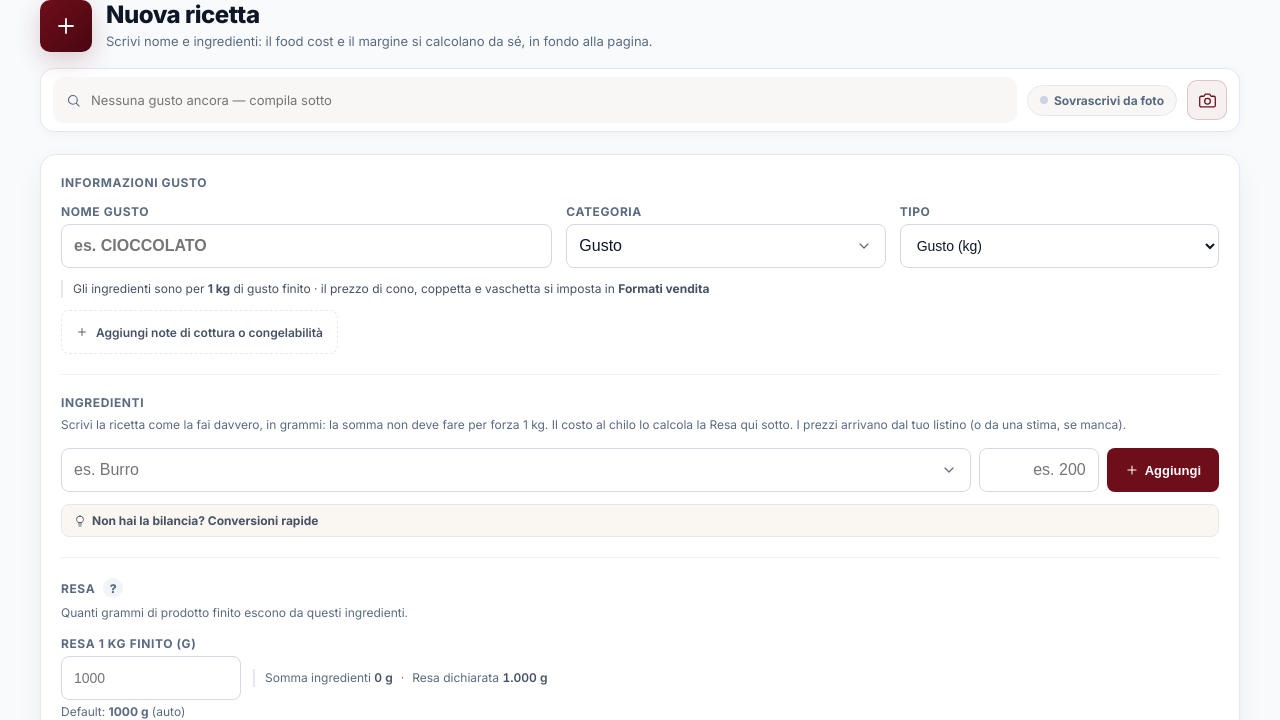
Test: Nuova Ricetta - food cost al kg dei gusti › senza resa scritta, la card Resa dichiara il peso che il motore usa davvero
Type "pistacchio" into the dropdown named "nome ingrediente da aggiungere" at [516, 470], box [61,448,971,492]
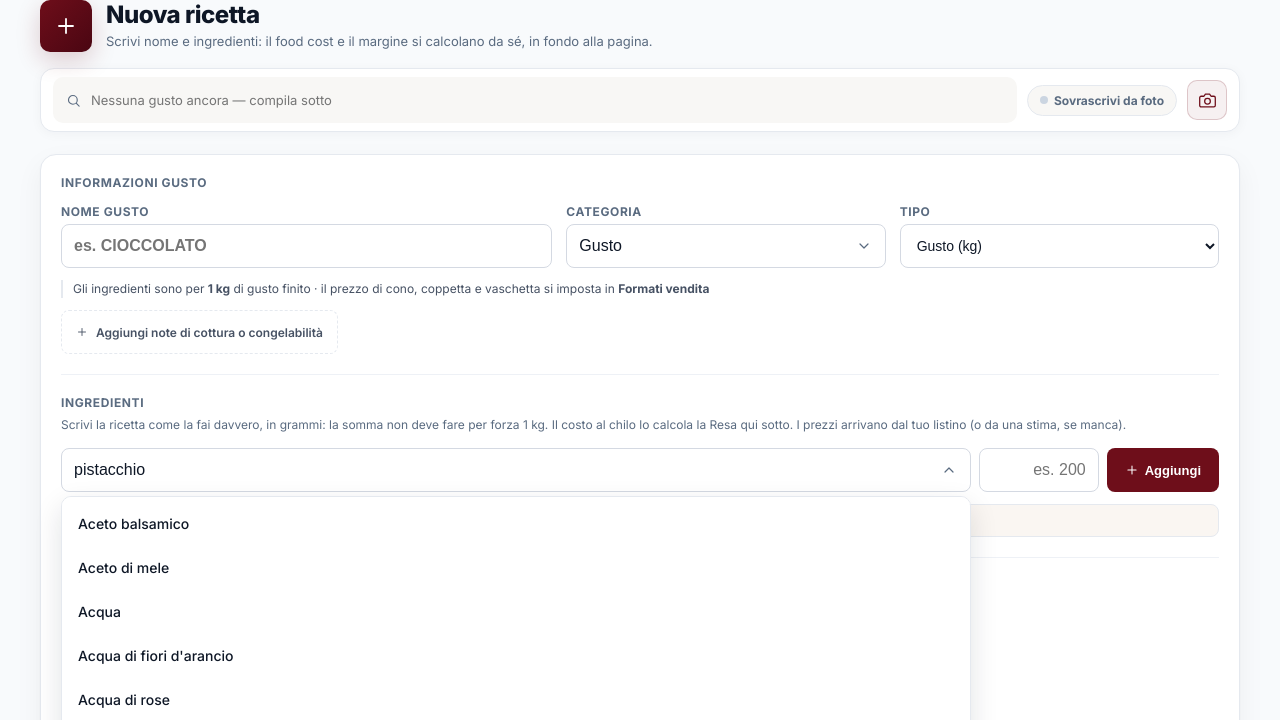
Type "500" into the field named "grammi di ingrediente da aggiungere" at [1039, 470], box [979,448,1099,492]
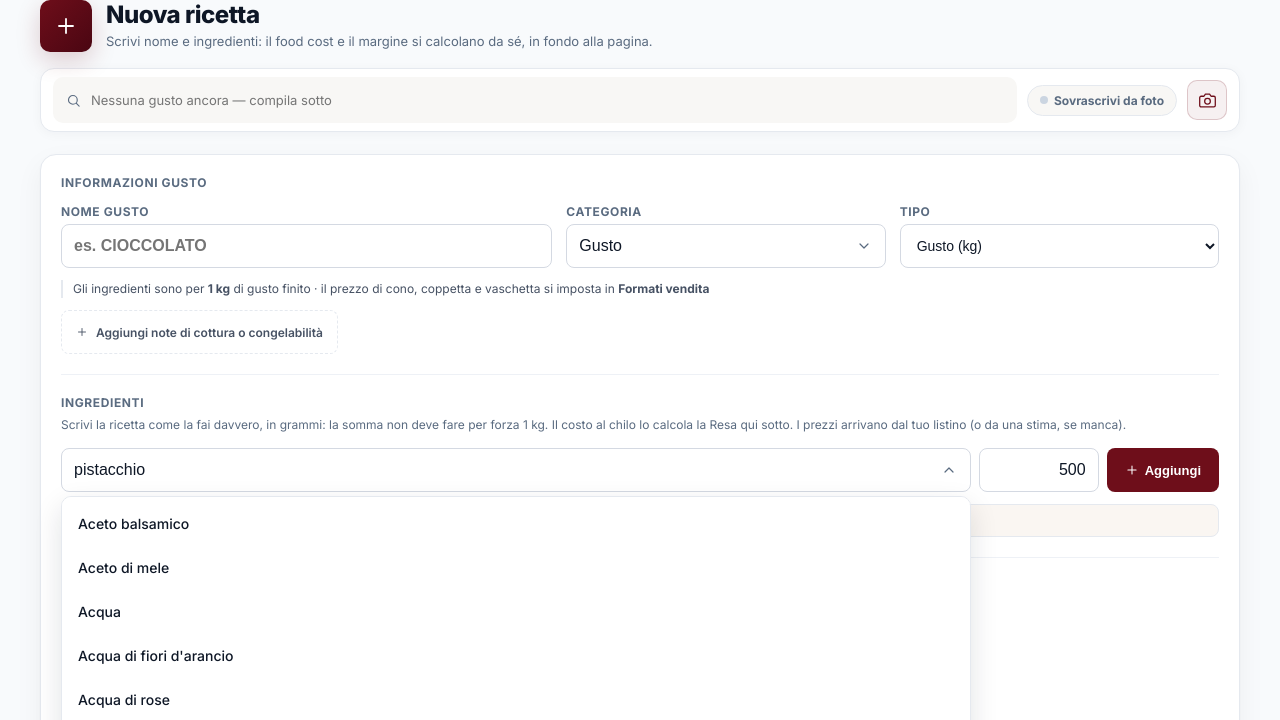
Click the button with aria-label "Aggiungi ingrediente alla ricetta" at [1163, 470], box [1107,448,1219,492]
(page scrolled)
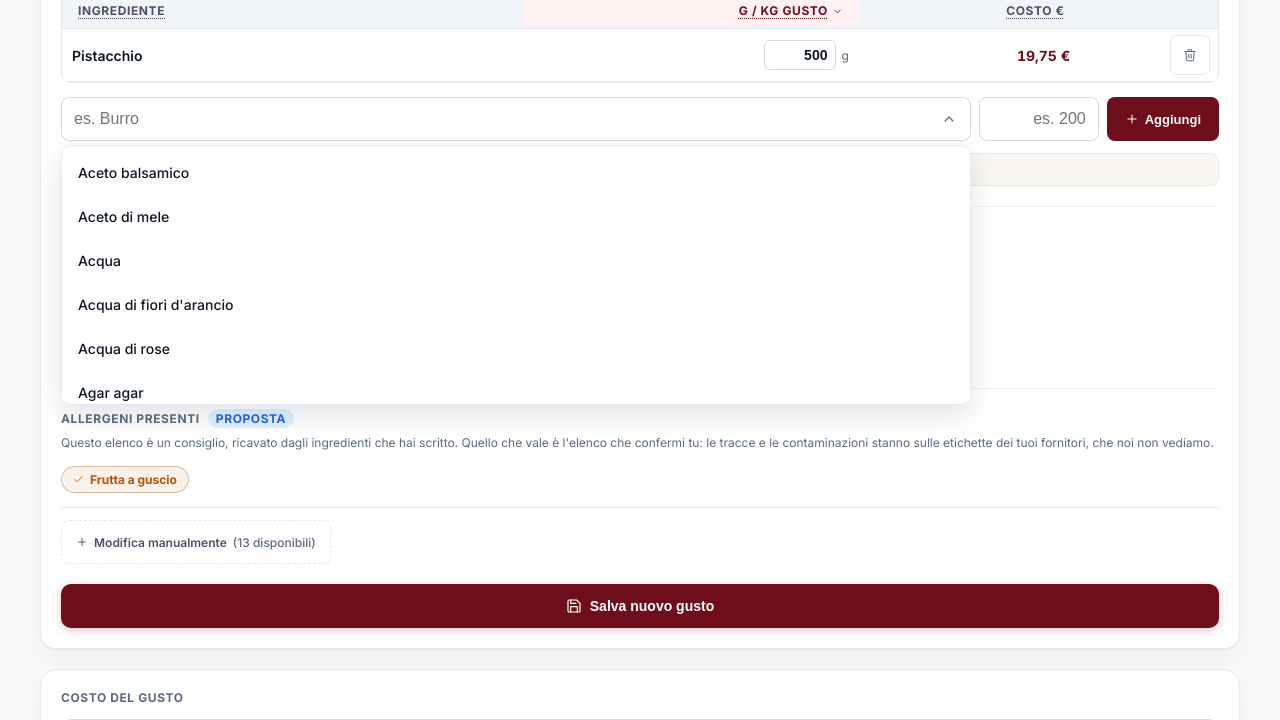
Expected: the text "500 g" is shown, [109,353,143,368]
Expected: the text "1.000 g" is gone
